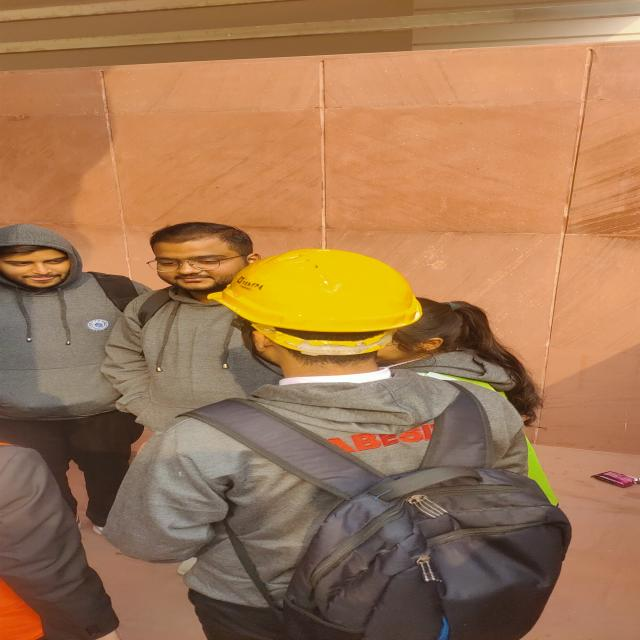no jacket: (203, 254, 546, 637)
unsafe: (1, 223, 124, 529), (100, 220, 253, 433)
